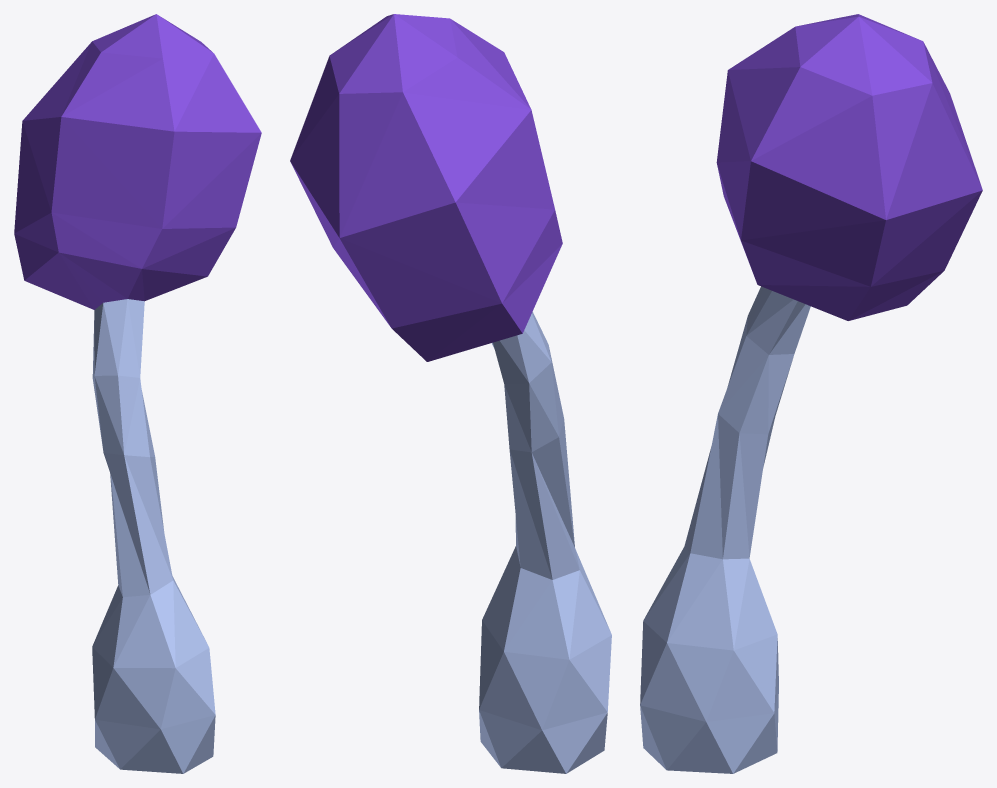
File: Mushroom 1_2.fbx
3 renders of one model, left to right at view 1: azimuth 30°, elevation 25°; view 2: azimuth 150°, elevation 25°; view 3: azimuth 270°, elevation 25°, orthographic. The views are drawn at different scales.
Parts seen in each view (by area): view 1: Mushroom 1_2; view 2: Mushroom 1_2; view 3: Mushroom 1_2.
Boxes of the visible parts, x1,y1,x2,y2 form: Mushroom 1_2: [14, 14, 261, 773]; Mushroom 1_2: [290, 14, 611, 773]; Mushroom 1_2: [640, 14, 982, 773].
Bounding box in the file's own units: 0.0978 × 0.3088 × 0.1248.
